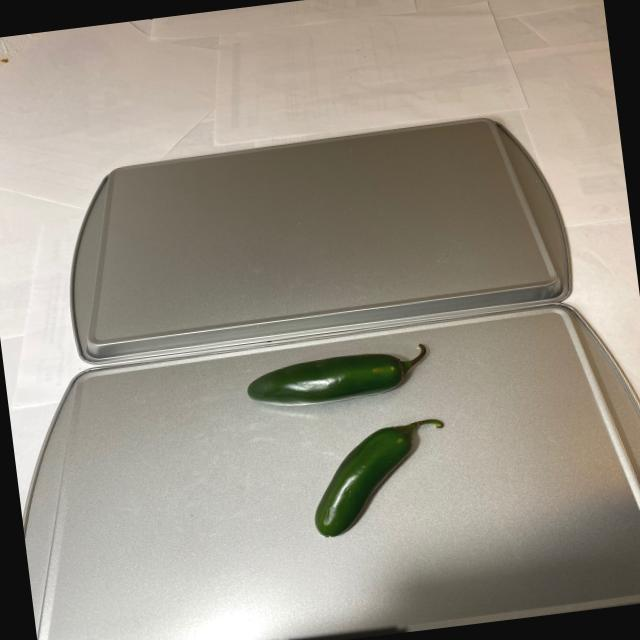chilli: (240, 343, 466, 548)
